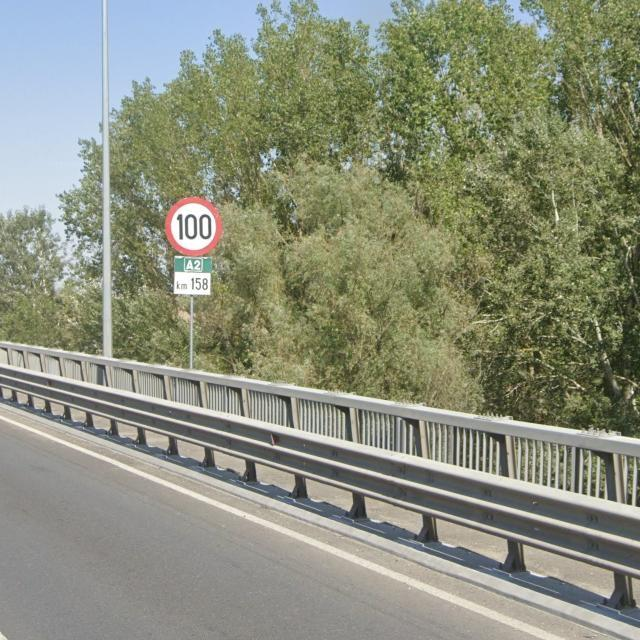forb_speed_over_100: (166, 197, 224, 257)
